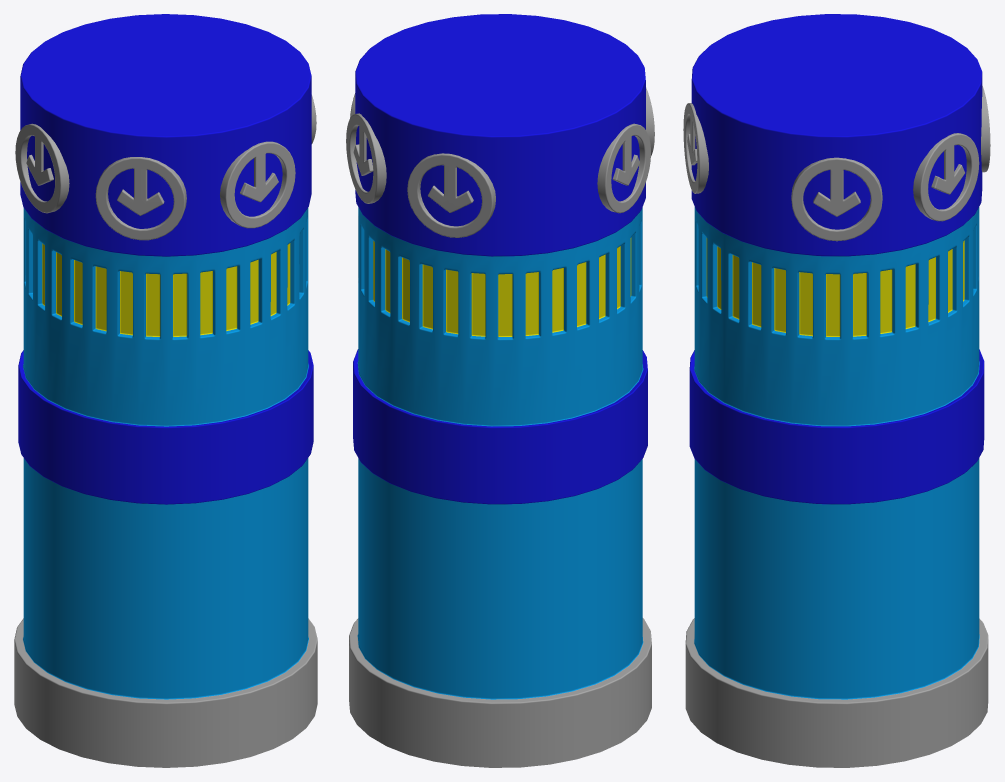
File: SM_Building_Cylinder_01 1.fbx
3 views of the same model, side by side, from view 1: azimuth 30°, elevation 25°; view 2: azimuth 150°, elevation 25°; view 3: azimuth 270°, elevation 25° (orthographic).
Parts seen in each view (by area): view 1: Cylinder.012; view 2: Cylinder.012; view 3: Cylinder.012.
Boxes of the visible parts, x1,y1,x2,y2 form: Cylinder.012: (14, 14, 317, 767); Cylinder.012: (346, 14, 654, 767); Cylinder.012: (683, 14, 990, 767).
Size of the model in its own units: 2651 by 6072 by 2687.
